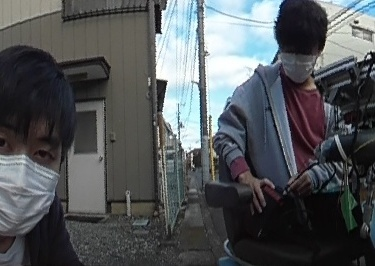person: (217, 1, 358, 247)
